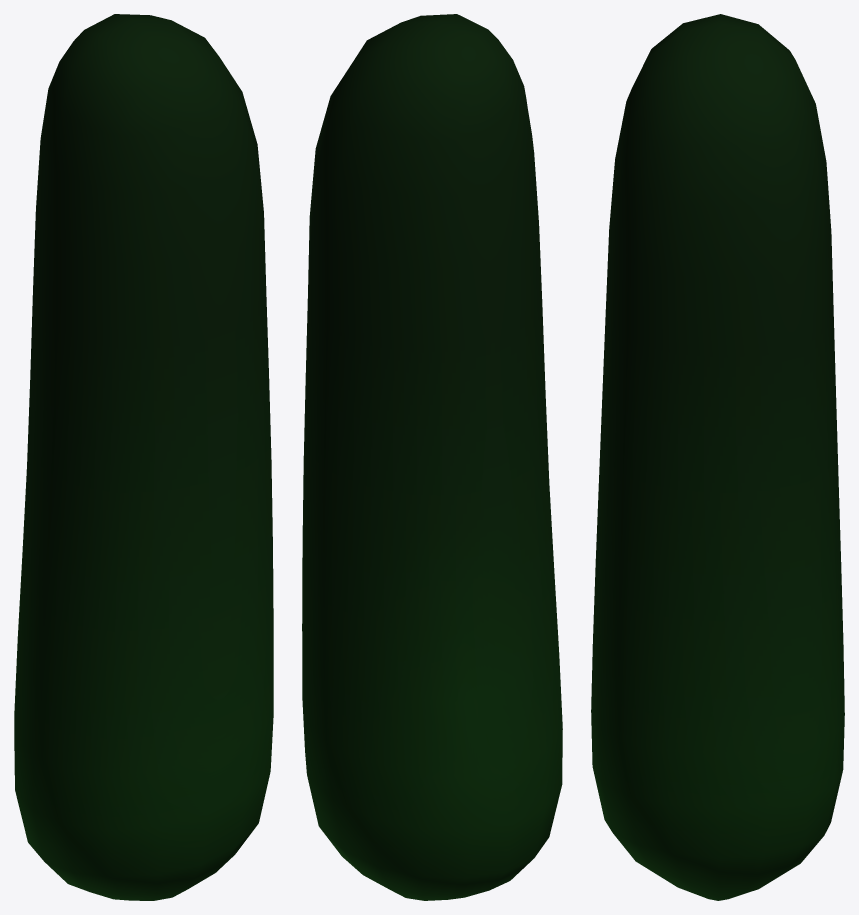
Rendered from Pickle_Regular.fbx.
The picture shows the model from 3 angles, left to right: view 1: azimuth 30°, elevation 25°; view 2: azimuth 150°, elevation 25°; view 3: azimuth 270°, elevation 25°; orthographic projection.
Parts seen in each view (by area): view 1: Pickle_Regular; view 2: Pickle_Regular; view 3: Pickle_Regular.
Part boxes in pixels (x1,y1,x2,y2): Pickle_Regular: (14,14,273,900); Pickle_Regular: (302,14,562,900); Pickle_Regular: (591,14,844,900).
Bounding box in the file's own units: 13.95 × 52.29 × 13.87.
